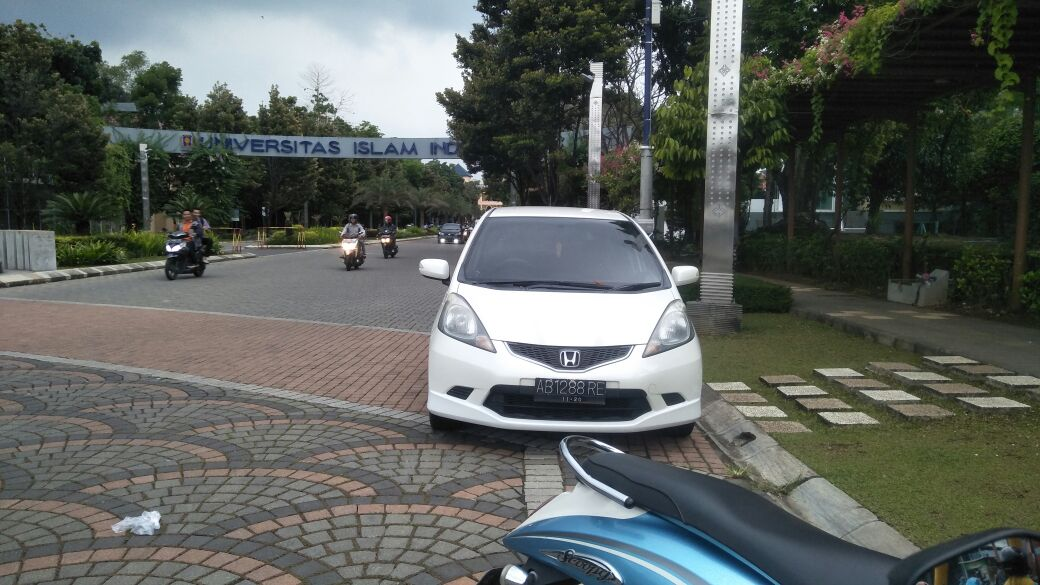plate: (533, 377, 607, 406)
